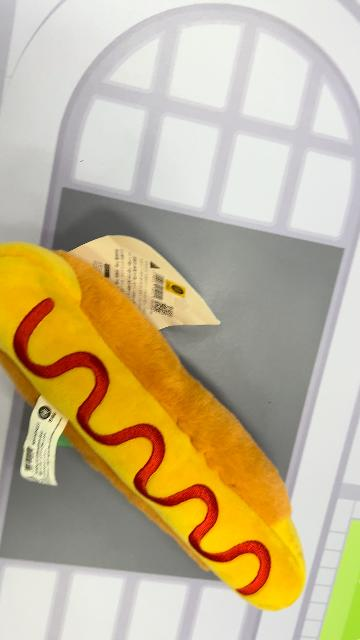hotdog: (2, 240, 308, 612)
